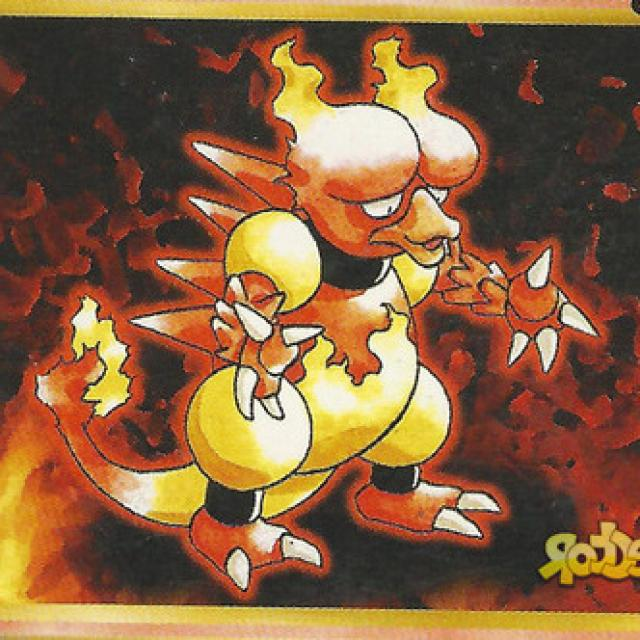Magmar: (114, 63, 533, 579)
